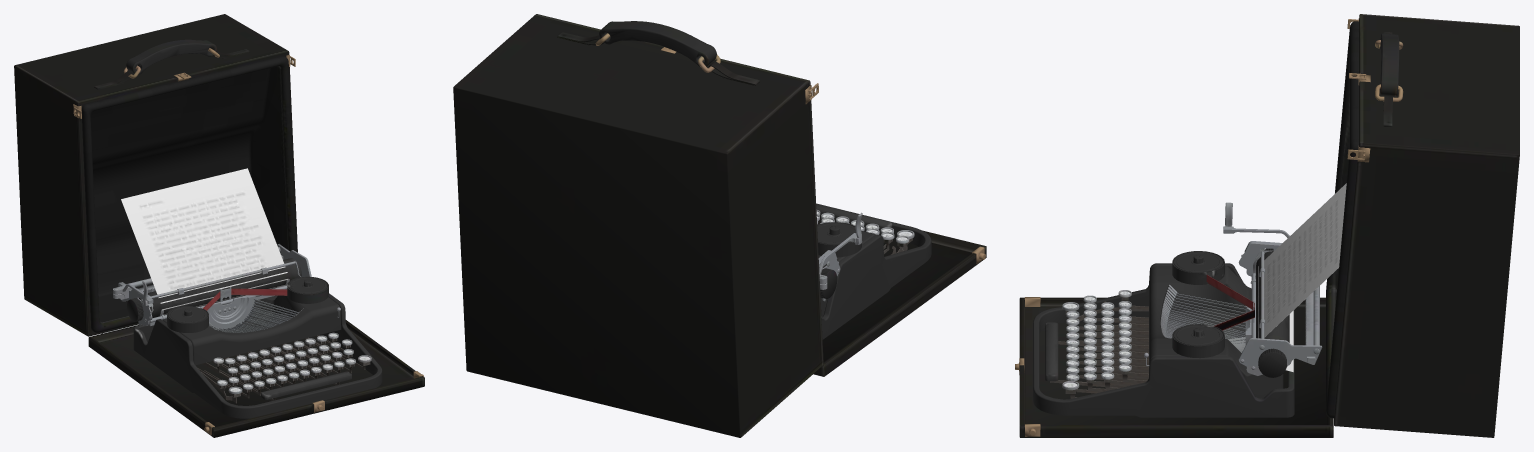
The model's file is underwood_4_bank_typewriter_portable.glb.
3 renders of one model, left to right at view 1: azimuth 30°, elevation 25°; view 2: azimuth 150°, elevation 25°; view 3: azimuth 270°, elevation 25°, orthographic. The views are drawn at different scales.
Parts seen in each view (by area): view 1: Case_lid, Paper, Case_floor, Body, Chasis, SmartCombine_0, Roller, Wheels, Case_Handle, Mechanism, pCylinder6, Space (+1 smaller); view 2: Case_lid, Case_floor, Body, Case_Handle, Wheels, SmartCombine_0, Mechanism, Space; view 3: Case_lid, Case_floor, Body, Paper, Chasis, SmartCombine_0, Wheels, Mechanism, Roller, Case_Handle, Space, Ribbon (+1 smaller).
Part boxes in pixels (<box>): Case_lid: <box>14,14,297,336</box>; Paper: <box>121,168,288,314</box>; Case_floor: <box>88,320,424,437</box>; Body: <box>133,293,382,418</box>; Chasis: <box>163,295,341,365</box>; SmartCombine_0: <box>213,332,371,397</box>; Roller: <box>126,247,301,325</box>; Wheels: <box>167,276,328,332</box>; Case_Handle: <box>94,39,250,89</box>; Mechanism: <box>113,244,311,326</box>; pCylinder6: <box>200,295,255,328</box>; Space: <box>261,371,352,399</box>; Case_lid: <box>453,14,823,437</box>; Case_floor: <box>813,221,986,376</box>; Body: <box>816,203,931,339</box>; Case_Handle: <box>557,21,760,85</box>; Wheels: <box>817,222,861,257</box>; SmartCombine_0: <box>816,209,914,247</box>; Mechanism: <box>818,212,862,301</box>; Space: <box>816,204,892,231</box>; Case_lid: <box>1326,14,1519,437</box>; Case_floor: <box>1019,297,1333,437</box>; Body: <box>1033,263,1294,417</box>; Paper: <box>1258,183,1346,372</box>; Chasis: <box>1149,266,1283,398</box>; SmartCombine_0: <box>1062,290,1131,393</box>; Wheels: <box>1172,251,1224,358</box>; Mechanism: <box>1223,202,1322,375</box>; Roller: <box>1250,250,1319,366</box>; Case_Handle: <box>1375,32,1403,126</box>; Space: <box>1045,322,1058,381</box>; Ribbon: <box>1206,275,1254,330</box>.
Size of the model in its own units: 36.04 by 41.21 by 57.85.
Materials: 1 (1 with a texture image).
